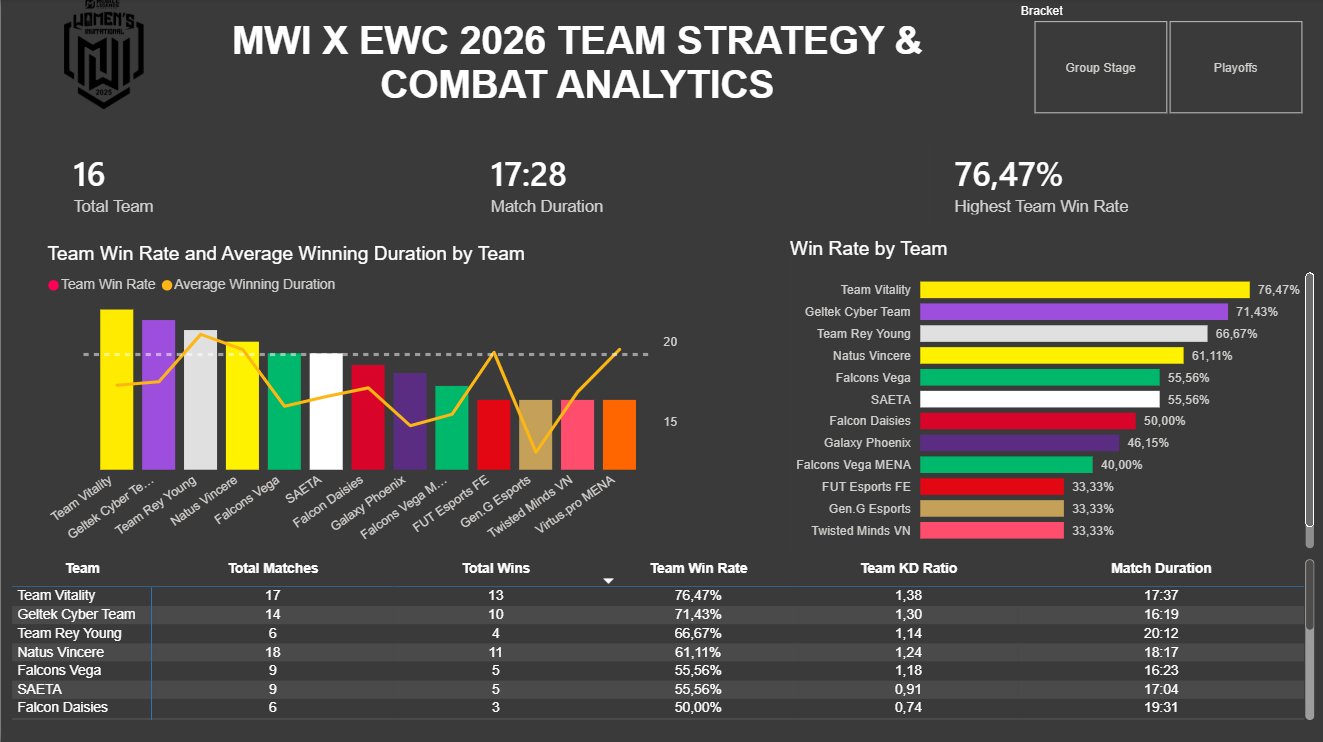

Layout of this report page (visuals, bound fields, positions):
{"tool":"powerbi","page":{"name":"The Winning Blueprint","canvas":[1280,720],"ordinal":2},"visuals":[{"type":"image","box":[9.7,0,179.8,107.4],"z":0},{"type":"textbox","box":[141.2,14.5,830,103.8],"z":1000},{"type":"slicer","fields":{"Values":["data_mwi_2026.Tahap_Turnamen"]},"box":[971.2,0,308.8,118.2],"z":2000},{"type":"cardVisual","fields":{"Data":["Count(MWI_Team_Agg.Team)"]},"box":[39.6,129.1,236.5,98.9],"z":3000},{"type":"cardVisual","fields":{"Data":["MWI_Team_Agg.Match Duration"]},"box":[442.5,129.1,314.9,98.9],"z":4000},{"type":"cardVisual","fields":{"Data":["Max(MWI_Team_Agg.team_win_rate)"]},"box":[890.1,129.1,310.1,98.9],"z":5000},{"type":"lineClusteredColumnComboChart","fields":{"Category":["MWI_Team_Agg.Team"],"Y":["Max(MWI_Team_Agg.team_win_rate)"],"Y2":["Sum(MWI_Team_Agg.avg_winning_duration)"]},"box":[39.8,236,618.9,297.8],"z":6000},{"type":"clusteredBarChart","fields":{"Category":["MWI_Team_Agg.Team"],"Y":["Sum(MWI_Team_Agg.team_win_rate)"]},"box":[756.1,231.9,516,304.6],"z":7000},{"type":"pivotTable","fields":{"Rows":["MWI_Team_Agg.Team"],"Values":["Avg(MWI_Team_Agg.Real Matches)","Avg(MWI_Team_Agg.Real Wins)","Sum(MWI_Team_Agg.team_win_rate)","Sum(MWI_Team_Agg.team_kd_ratio)","MWI_Team_Agg.Match Duration"]},"box":[6,536.9,1266.8,165.3],"z":8000}]}

Visuals, with their boxes in screenshot pixels (x1, y1, x2, y2), scaled from the page's 1280x720 canvas onto the 1323x742 screenshot:
image: crop(10, 0, 196, 111)
textbox: crop(146, 15, 1004, 122)
slicer - data_mwi_2026.Tahap_Turnamen: crop(1004, 0, 1322, 122)
cardVisual - Count(MWI_Team_Agg.Team): crop(41, 133, 285, 235)
cardVisual - MWI_Team_Agg.Match Duration: crop(457, 133, 783, 235)
cardVisual - Max(MWI_Team_Agg.team_win_rate): crop(920, 133, 1241, 235)
lineClusteredColumnComboChart - MWI_Team_Agg.Team x Max(MWI_Team_Agg.team_win_rate): crop(41, 243, 681, 550)
clusteredBarChart - MWI_Team_Agg.Team x Sum(MWI_Team_Agg.team_win_rate): crop(782, 239, 1315, 553)
pivotTable - MWI_Team_Agg.Team x Avg(MWI_Team_Agg.Real Matches): crop(6, 553, 1316, 724)
